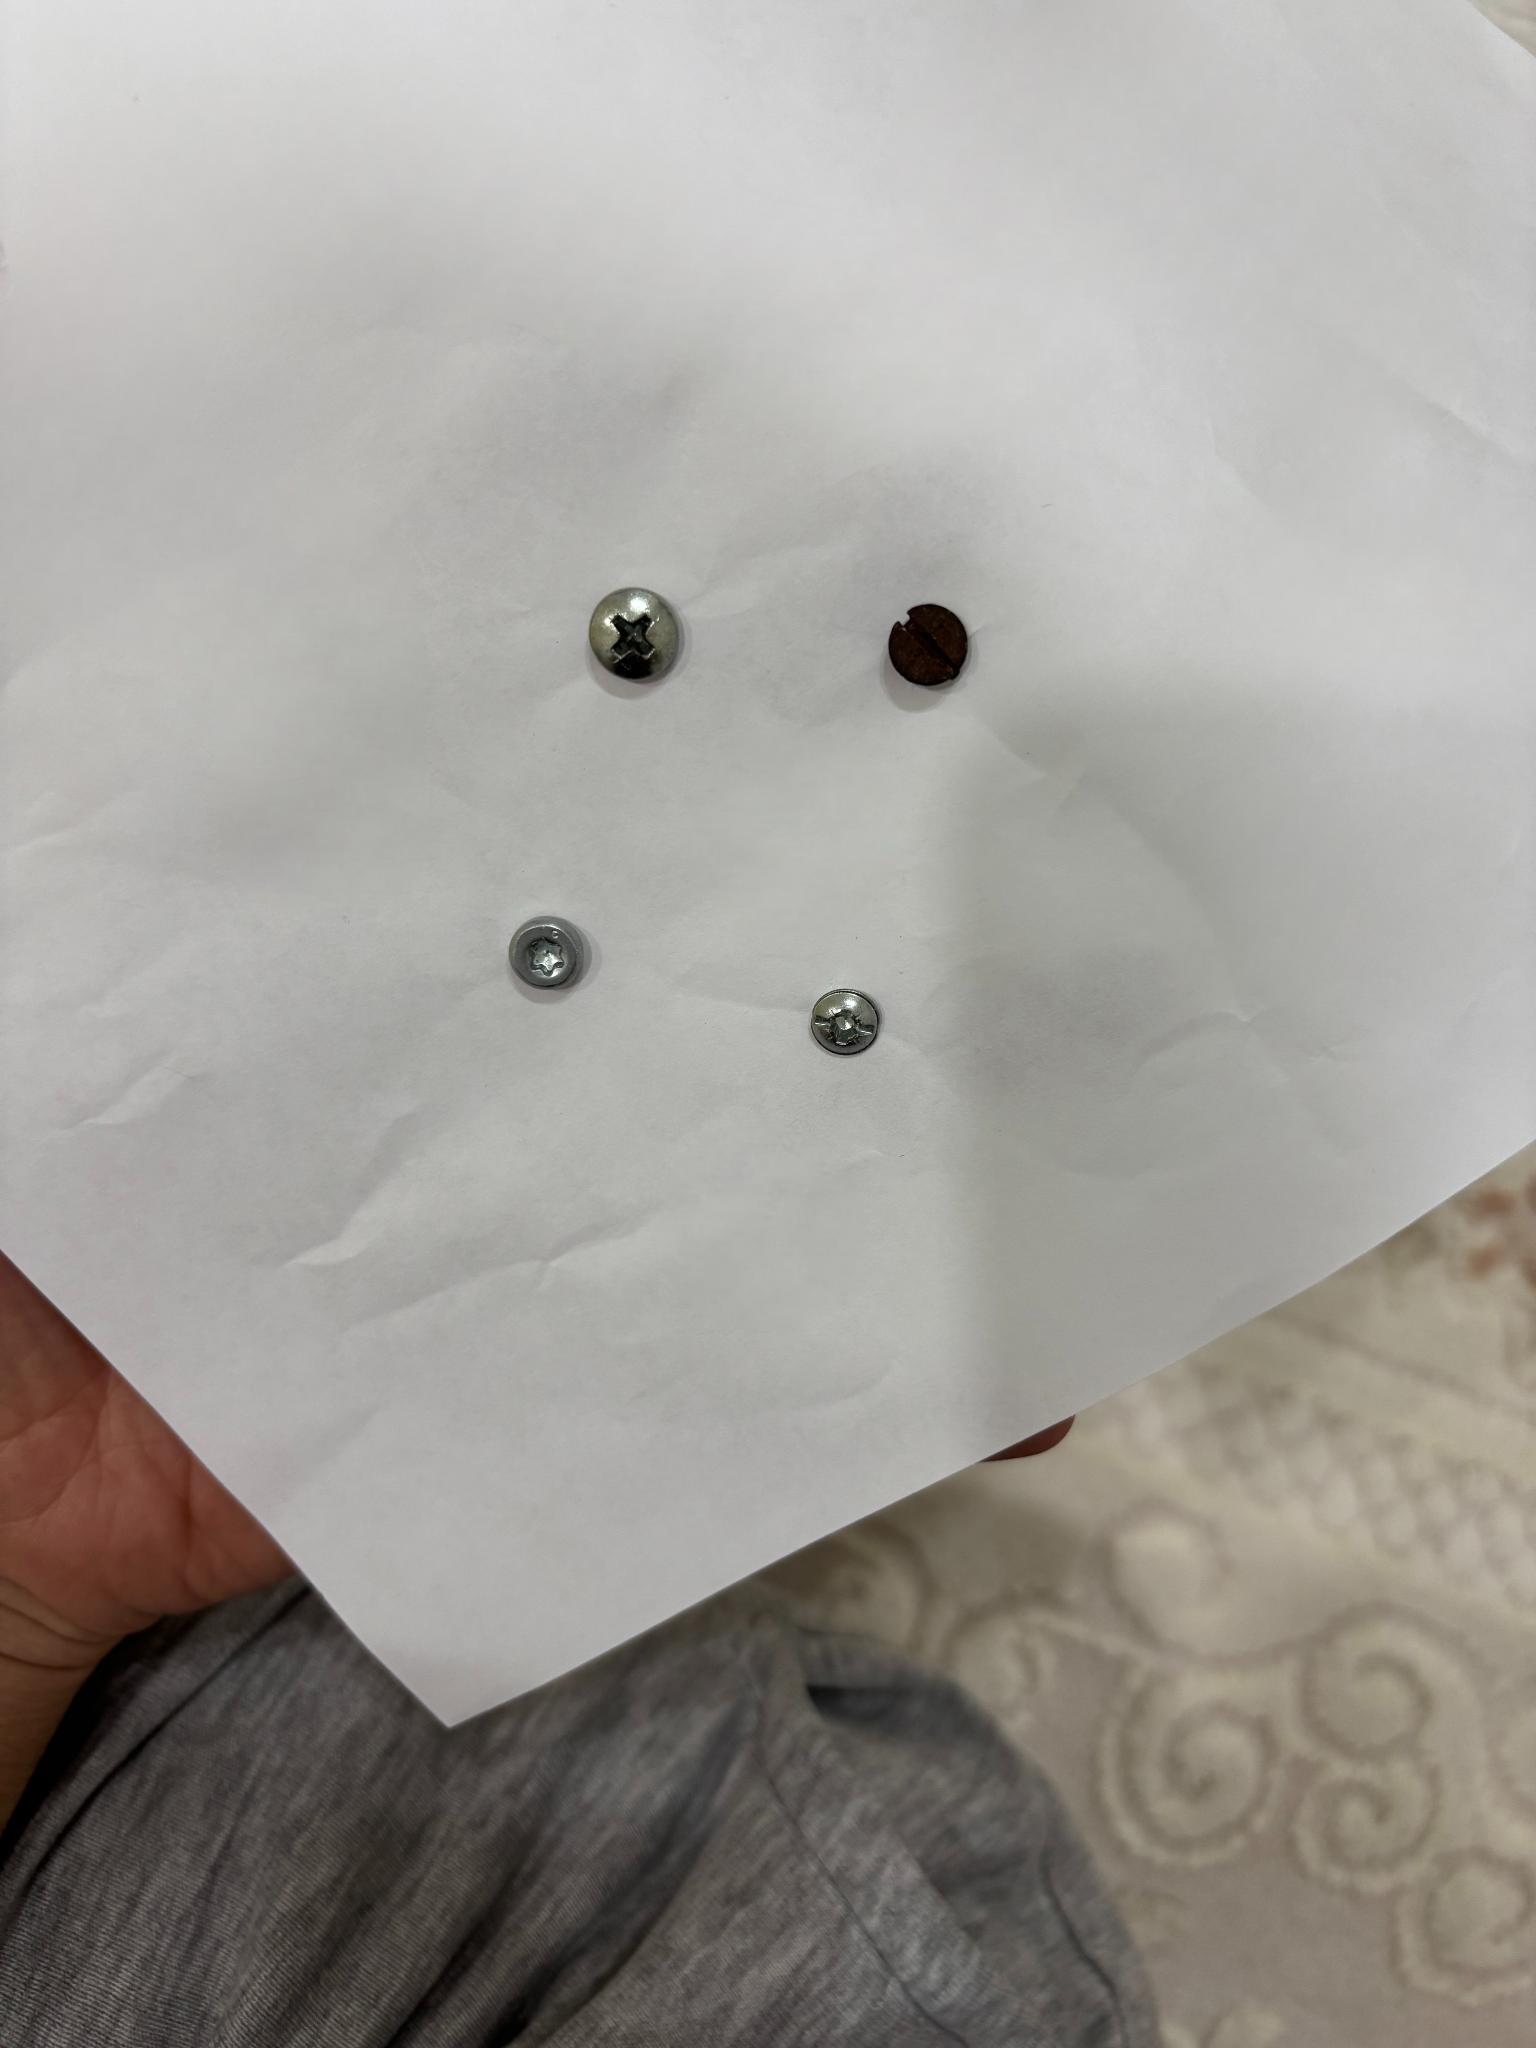PH: (588, 587, 679, 682)
PZ: (811, 989, 880, 1055)
SL: (888, 603, 968, 687)
T: (509, 920, 586, 989)
